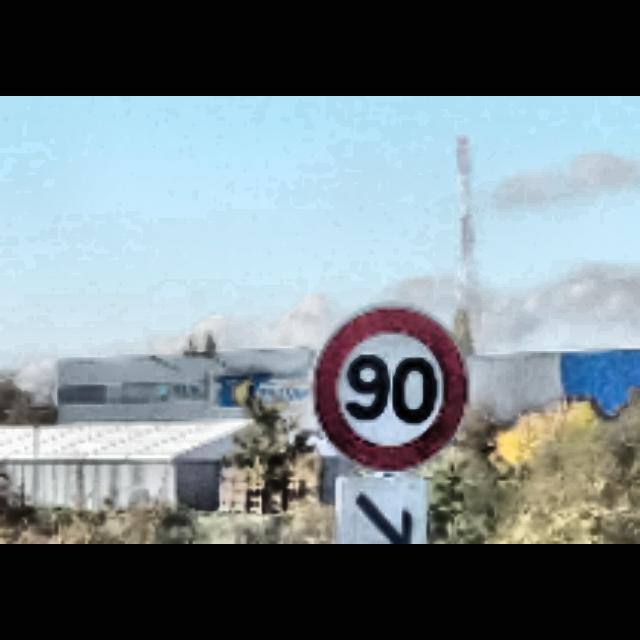speed_90: (312, 304, 470, 474)
